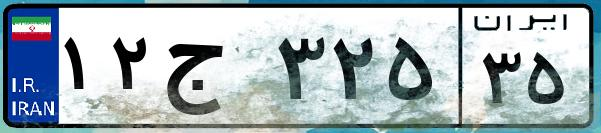1: (57, 26, 110, 100)
2: (330, 28, 385, 110), (110, 28, 158, 98)
3: (270, 28, 330, 110), (475, 38, 525, 113)
5: (385, 28, 445, 110), (525, 38, 570, 115)
ج: (158, 20, 270, 120)
